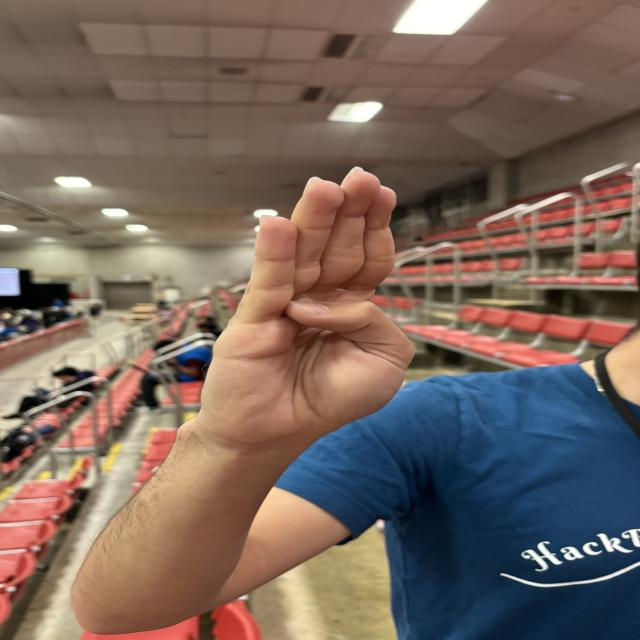B: (202, 165, 432, 439)
